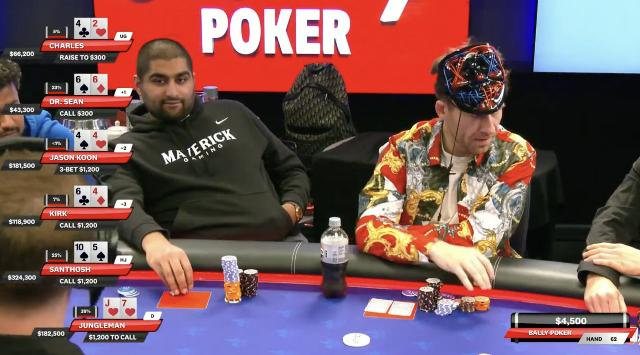10S: (75, 242, 92, 262)
2H: (91, 19, 107, 38)
4C: (75, 20, 92, 38)
4D: (91, 186, 107, 206)
4H: (90, 131, 108, 151)
4S: (74, 130, 90, 150)
5S: (92, 243, 108, 263)
6C: (74, 187, 90, 208)
6D: (92, 74, 108, 94)
6S: (75, 74, 92, 94)
7H: (120, 299, 136, 319)
JH: (104, 298, 120, 318)
